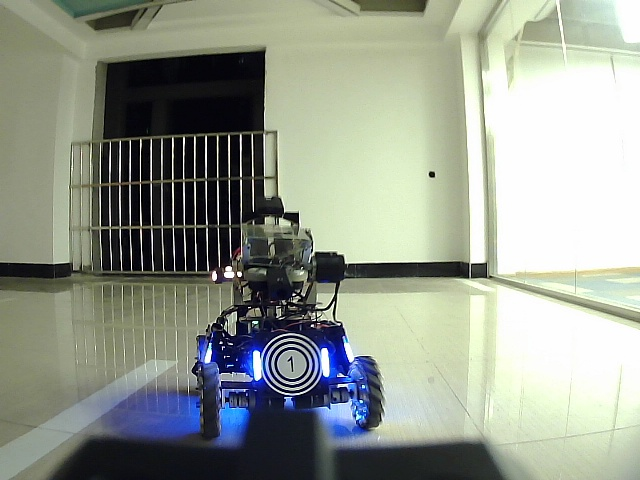lamp: (250, 347, 263, 382), (319, 346, 332, 378)
pair: (251, 349, 329, 376)
